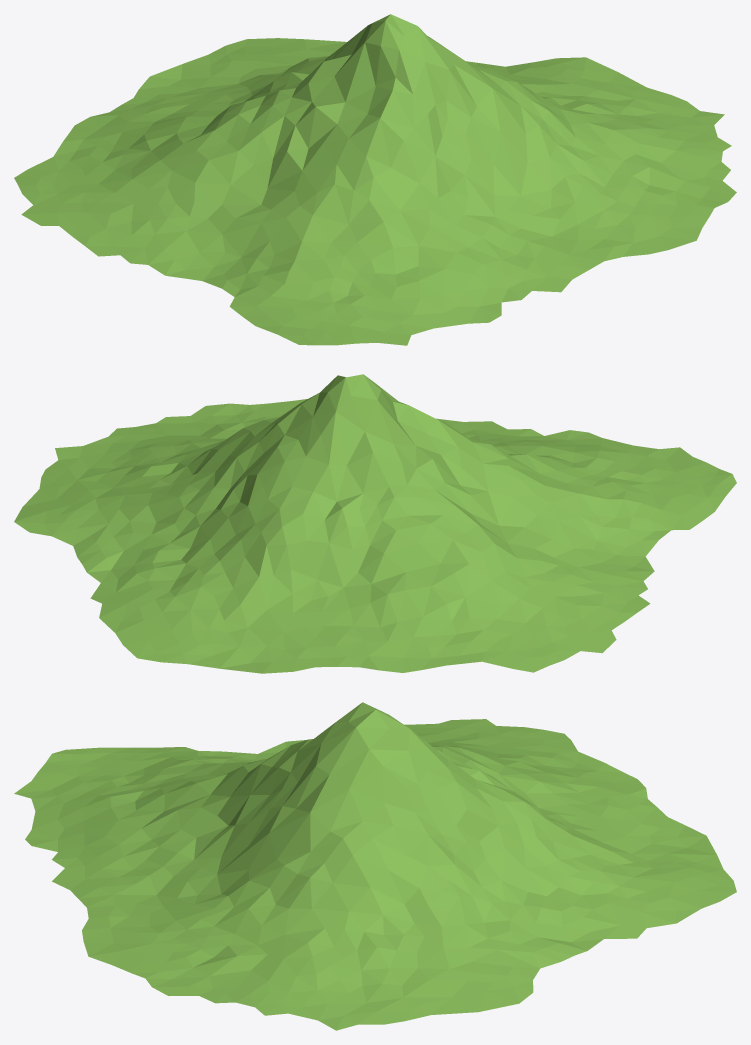
The model's file is MT_Mountain_L_a_36.fbx.
The picture shows the model from 3 angles, top to bottom: view 1: azimuth 30°, elevation 25°; view 2: azimuth 150°, elevation 25°; view 3: azimuth 270°, elevation 25°; orthographic projection. The views are drawn at different scales.
Parts seen in each view (by area): view 1: MT_Mountain_L_a_36; view 2: MT_Mountain_L_a_36; view 3: MT_Mountain_L_a_36.
Boxes of the visible parts, <box> form: MT_Mountain_L_a_36: <box>14,14,736,345</box>; MT_Mountain_L_a_36: <box>14,374,736,673</box>; MT_Mountain_L_a_36: <box>14,702,736,1030</box>.
Size of the model in its own units: 8671 by 2178 by 8485.
